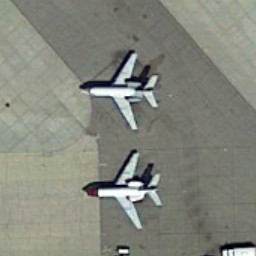Airplane: (74, 145, 172, 240), (73, 43, 167, 141)
